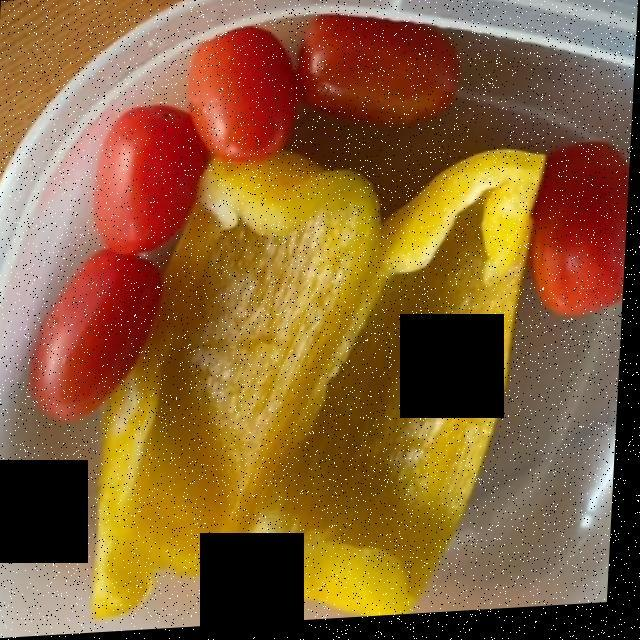bell-pepper: (108, 128, 549, 610)
tomato: (36, 30, 606, 415)
